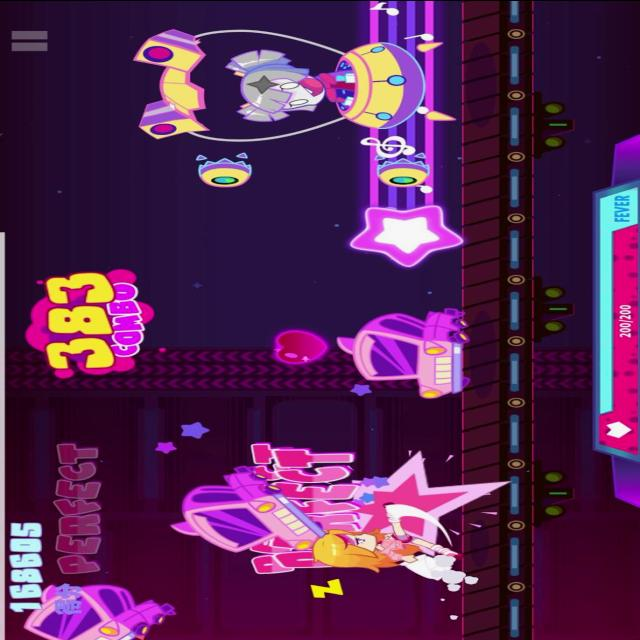che: (164, 464, 310, 552), (344, 303, 472, 397), (20, 579, 184, 640)
hold: (336, 0, 466, 268)
qiangboss: (130, 25, 436, 193)
xin: (260, 325, 334, 363)
